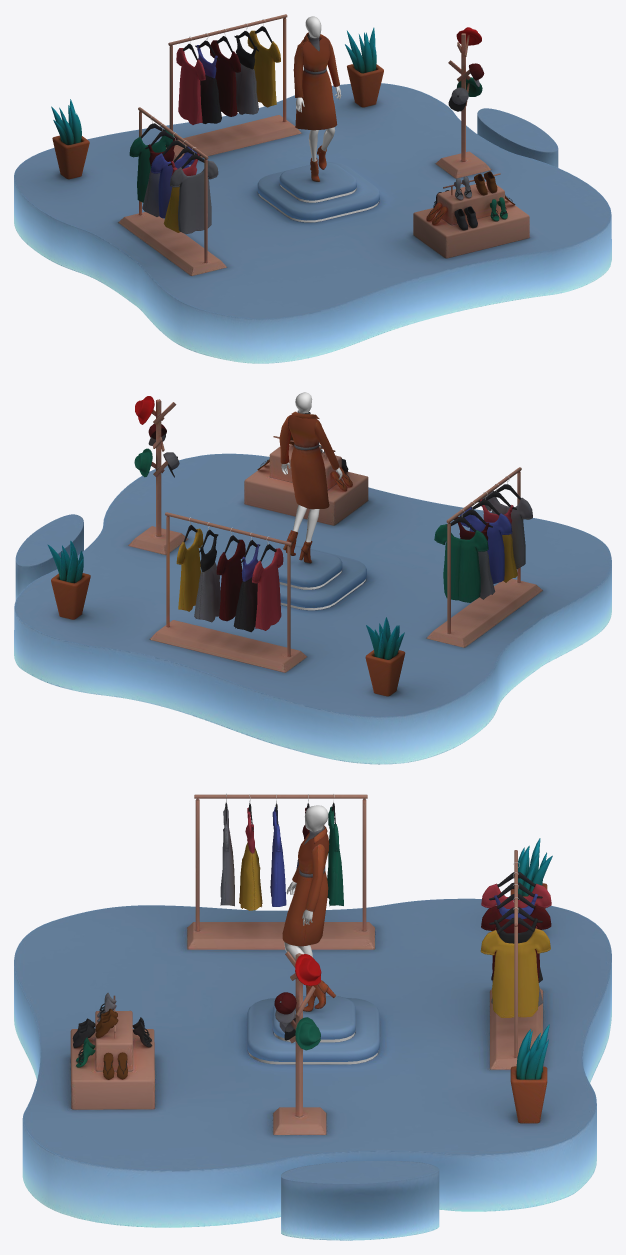
The model's file is LeviCam2.glb.
3 views of the same model, one above another, from view 1: azimuth 30°, elevation 25°; view 2: azimuth 150°, elevation 25°; view 3: azimuth 270°, elevation 25° (orthographic). The views are drawn at different scales.
Visible parts, largest first — view 1: LeviCamBs, LeviCamSet, LeviCamManneBody, LeviCamBsGlw; view 2: LeviCamBs, LeviCamSet, LeviCamManneBody; view 3: LeviCamBs, LeviCamSet, LeviCamManneBody.
Part boxes in pixels (box(x1,y1,x2,y2)): LeviCamBs: box(14, 83, 611, 363); LeviCamSet: box(51, 14, 529, 275); LeviCamManneBody: box(295, 16, 341, 161); LeviCamBsGlw: box(258, 185, 378, 222); LeviCamBs: box(14, 453, 611, 764); LeviCamSet: box(47, 396, 542, 696); LeviCamManneBody: box(281, 392, 342, 542); LeviCamBs: box(14, 898, 611, 1240); LeviCamSet: box(70, 793, 552, 1134); LeviCamManneBody: box(284, 805, 328, 960).
Bounding box in the file's own units: 7.58 × 3.53 × 6.72.
5 materials, 2 textured.
